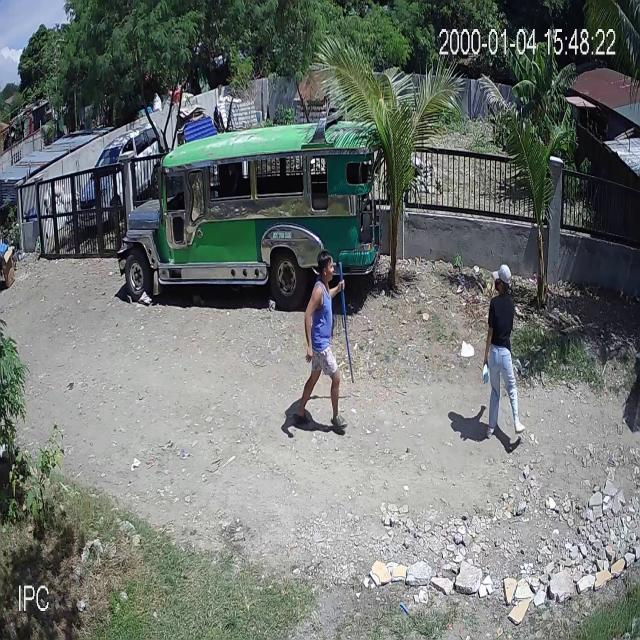running: (294, 252, 354, 424), (481, 264, 527, 440)
